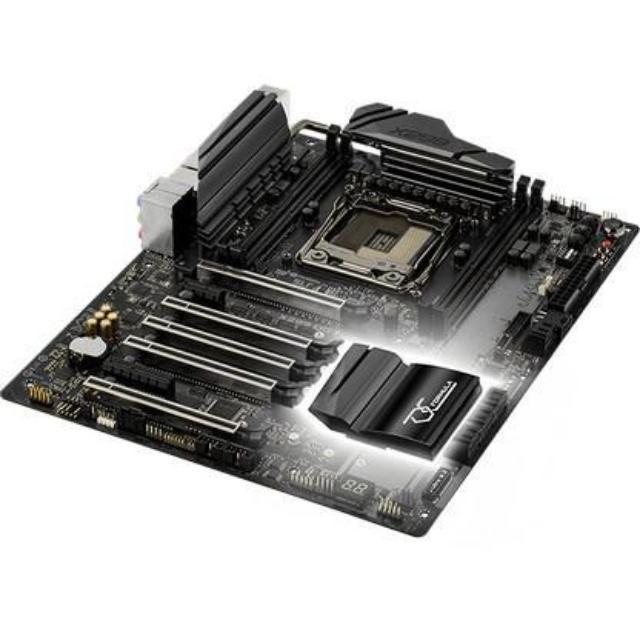Mainboard: (0, 72, 640, 534)
